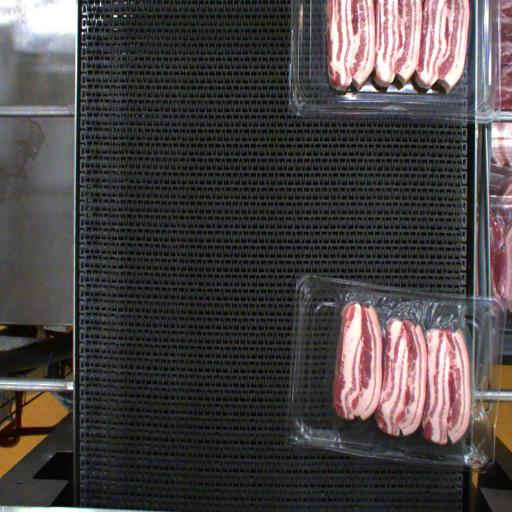unsealed: (331, 286, 481, 371)
